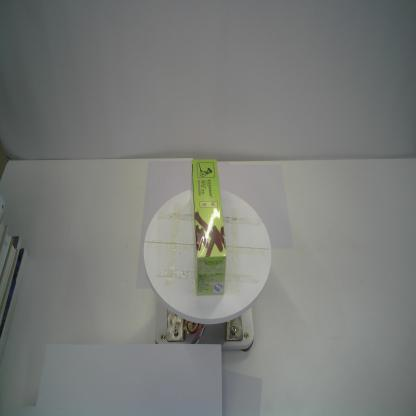Instant Drink: (190, 157, 228, 299)
